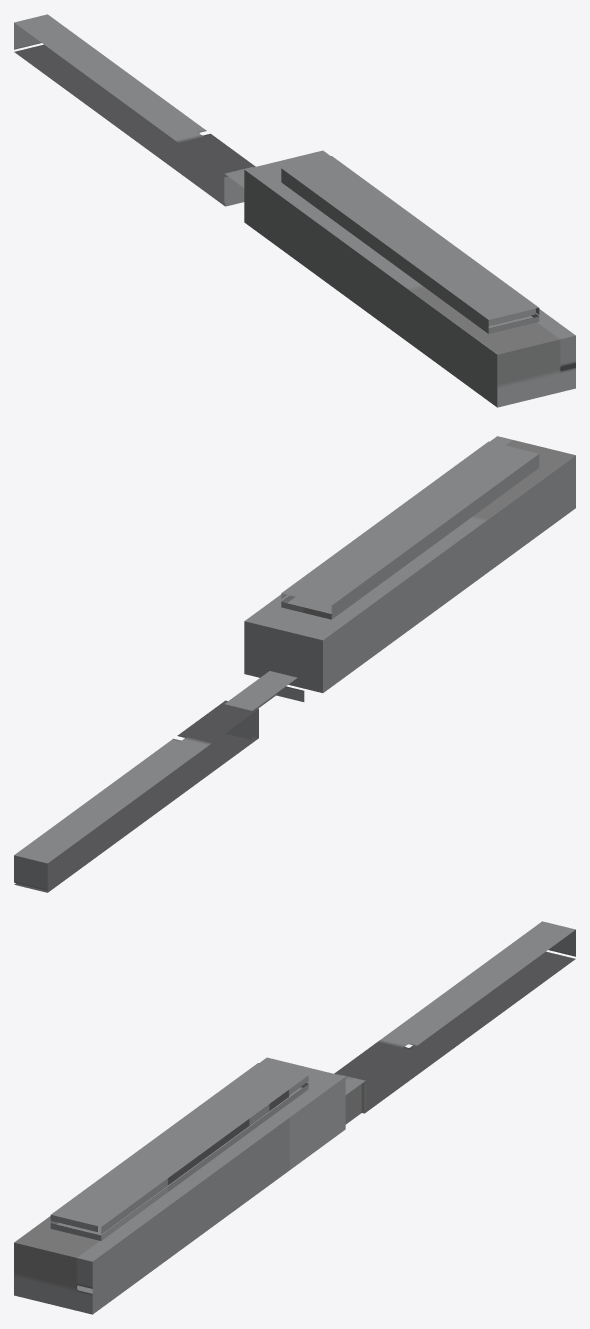
3 views of the same model, one above another, from view 1: azimuth 30°, elevation 25°; view 2: azimuth 150°, elevation 25°; view 3: azimuth 330°, elevation 25° (orthographic).
Size of the model in its own units: 0.07 by 0.0745 by 0.78.
